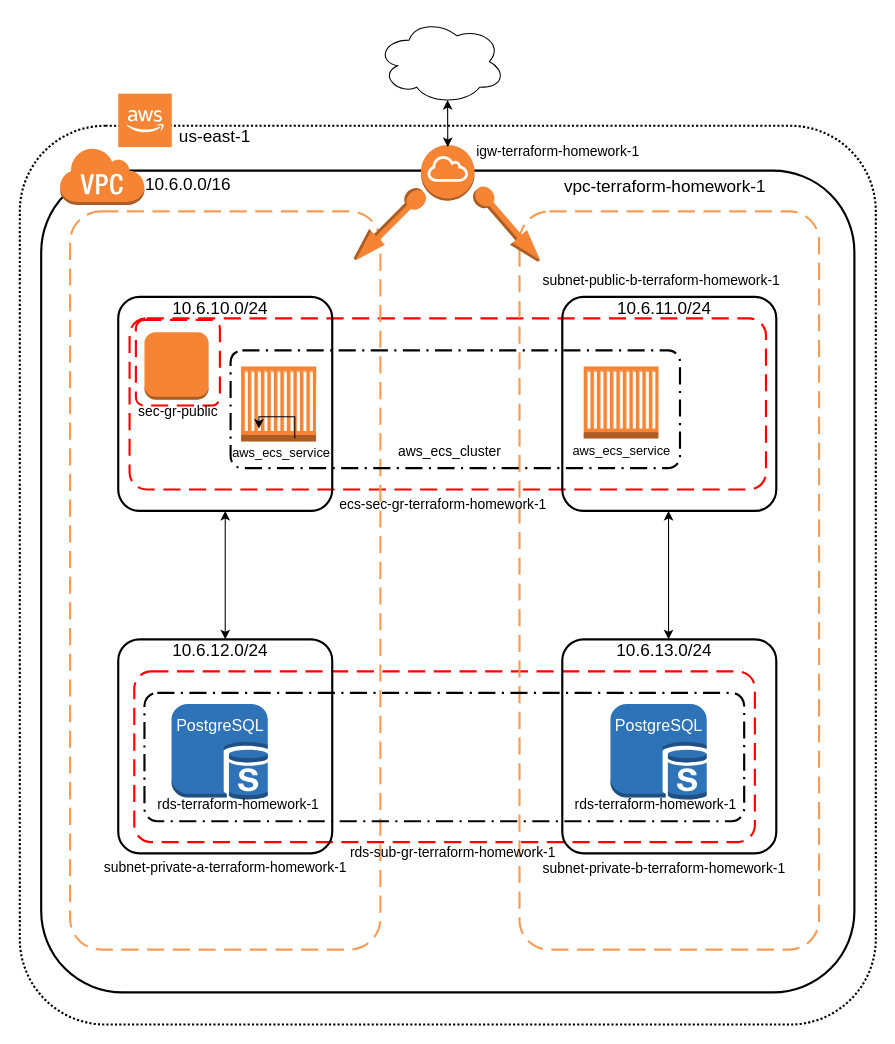
The diagram is 895 pixels wide and 1044 high, and some of its shapes have lost their labels. Here are the shapes that lost their labels. From the top down, the box of each, then its label:
(143, 331, 209, 400): Bastion EC2
(68, 210, 381, 950): subnet-public-a-terraform-homework-1
